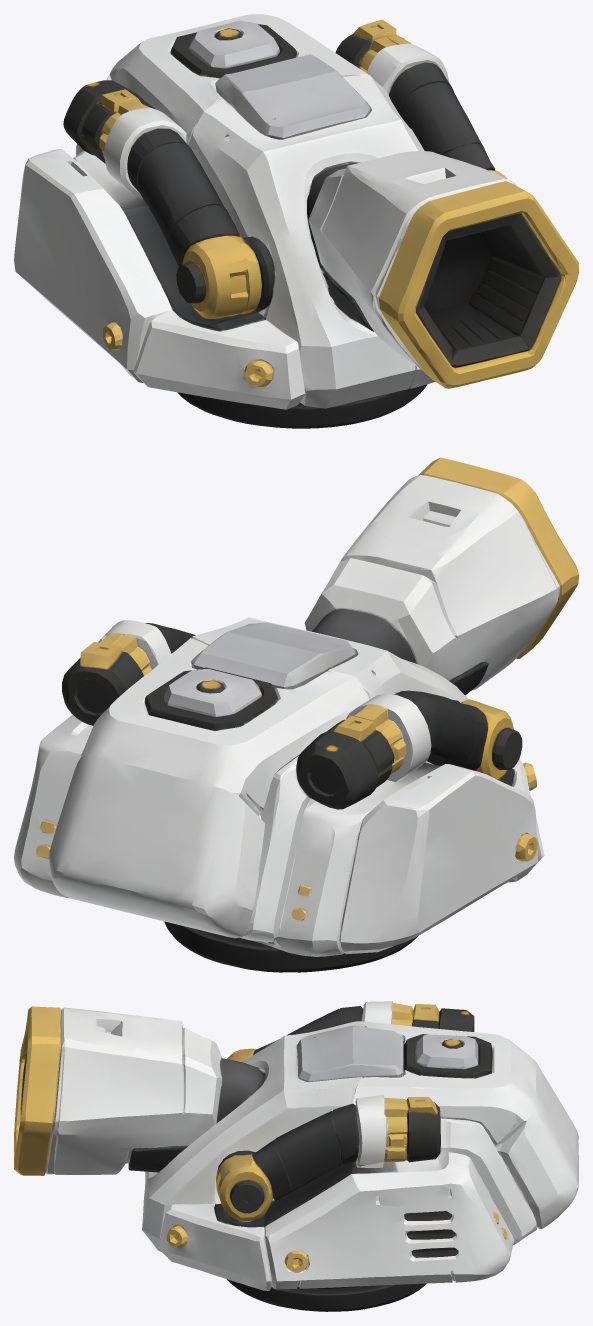
The model's file is scatter.glb.
3 renders of one model, top to bottom at view 1: azimuth 30°, elevation 25°; view 2: azimuth 150°, elevation 25°; view 3: azimuth 270°, elevation 25°, orthographic. The views are drawn at different scales.
Parts seen in each view (by area): view 1: model; view 2: model; view 3: model.
Part boxes in pixels (left/top/right/bottom): model: left=14, top=14, right=578, bottom=428; model: left=14, top=457, right=578, bottom=972; model: left=14, top=1001, right=578, bottom=1311.
Size of the model in its own units: 1.3 by 0.928 by 1.9.
Materials: 1 (1 with a texture image).
